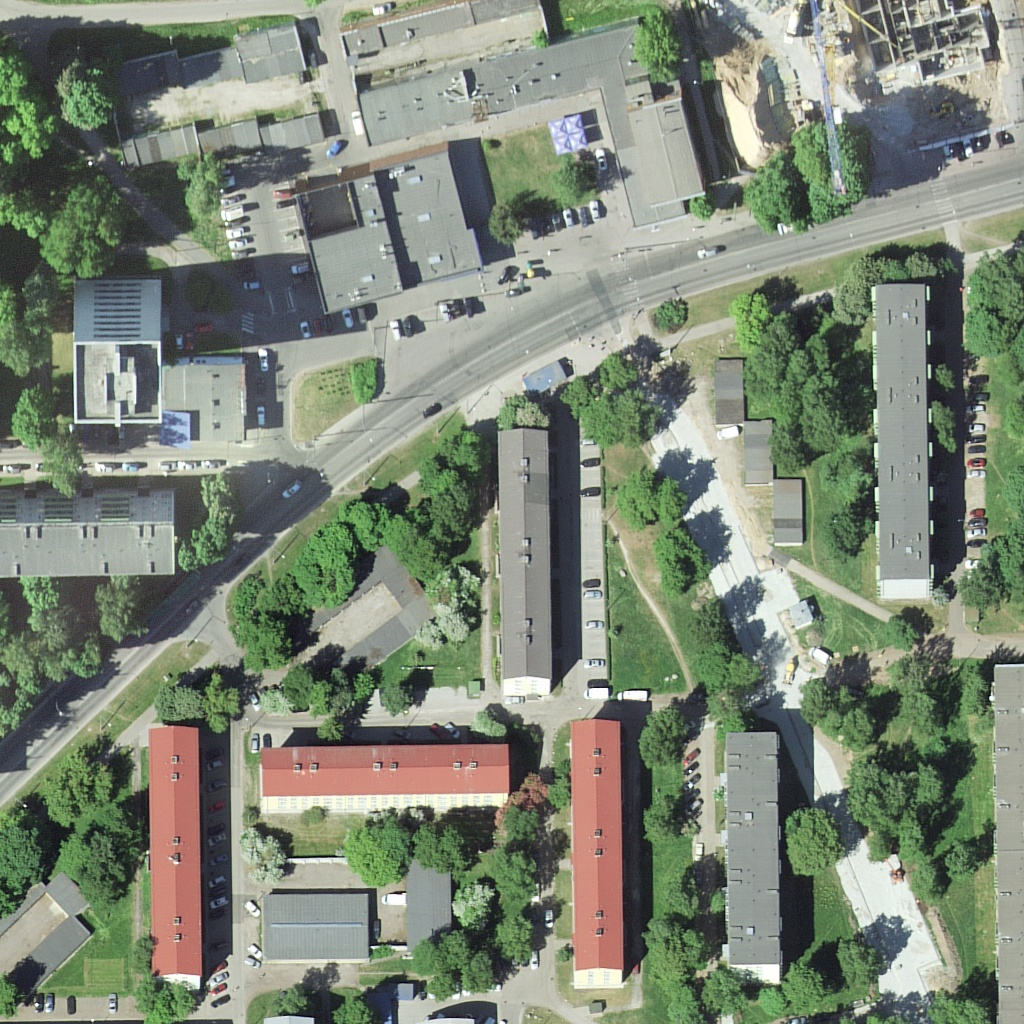building: (333, 10, 672, 150), (284, 154, 503, 293), (863, 287, 943, 620), (589, 22, 710, 231), (489, 417, 560, 707), (254, 743, 519, 819), (0, 482, 188, 586), (143, 725, 214, 994), (720, 723, 791, 990), (64, 269, 171, 437), (312, 549, 445, 672), (567, 718, 618, 990), (8, 880, 104, 1001), (251, 891, 373, 966), (164, 357, 248, 457), (120, 124, 332, 160), (229, 25, 321, 89), (398, 849, 454, 947), (710, 352, 757, 431), (767, 479, 808, 557), (736, 414, 777, 492)
